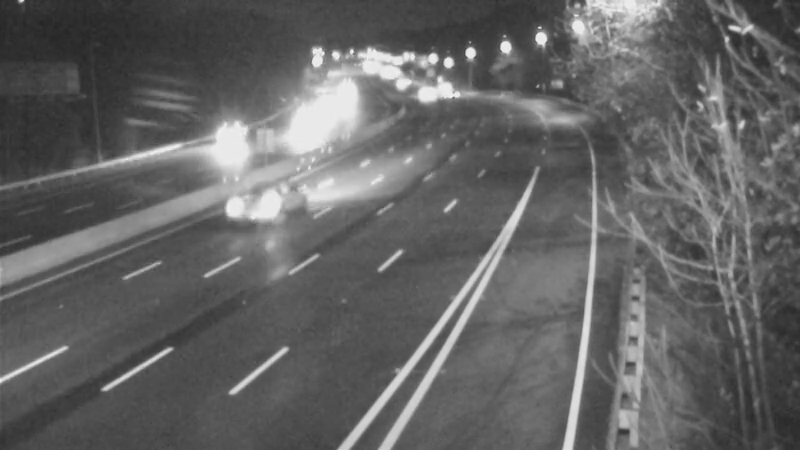vehicle: (207, 173, 287, 253), (420, 60, 470, 110), (401, 69, 451, 119), (205, 117, 255, 167), (290, 105, 340, 155)
